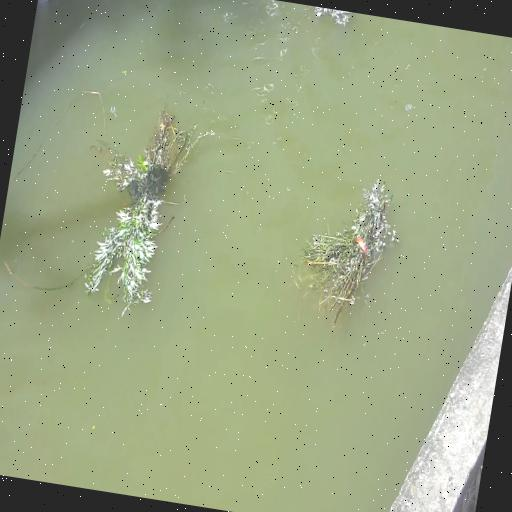twig: (74, 90, 216, 324), (288, 166, 405, 336), (312, 6, 351, 30)
